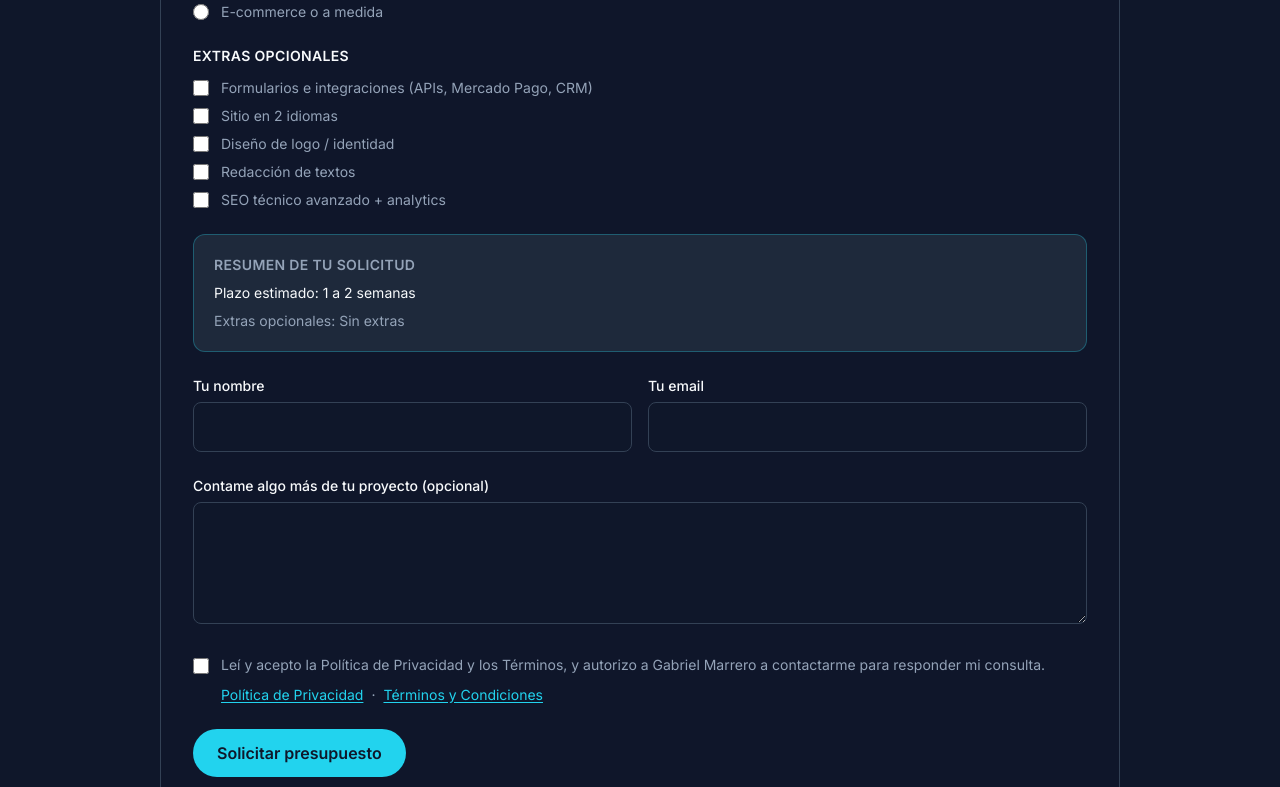
Estimator › blocks the submit when the consent is missing
(page scrolled)
In the field labelled "Tu nombre": coordinates (412, 427) [193, 402, 632, 452], type "Ana Pérez"
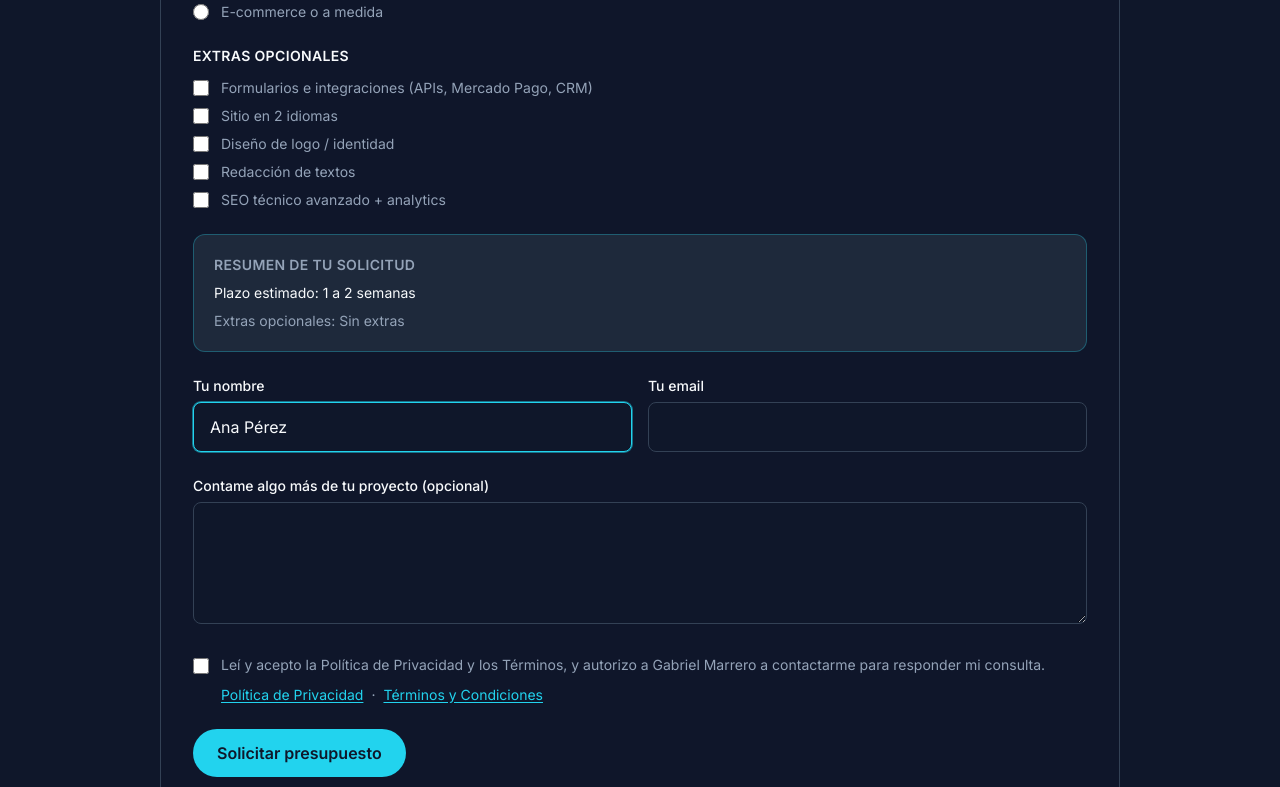
In the field labelled "Tu email": coordinates (868, 427) [648, 402, 1087, 452], type "ana@example.com"
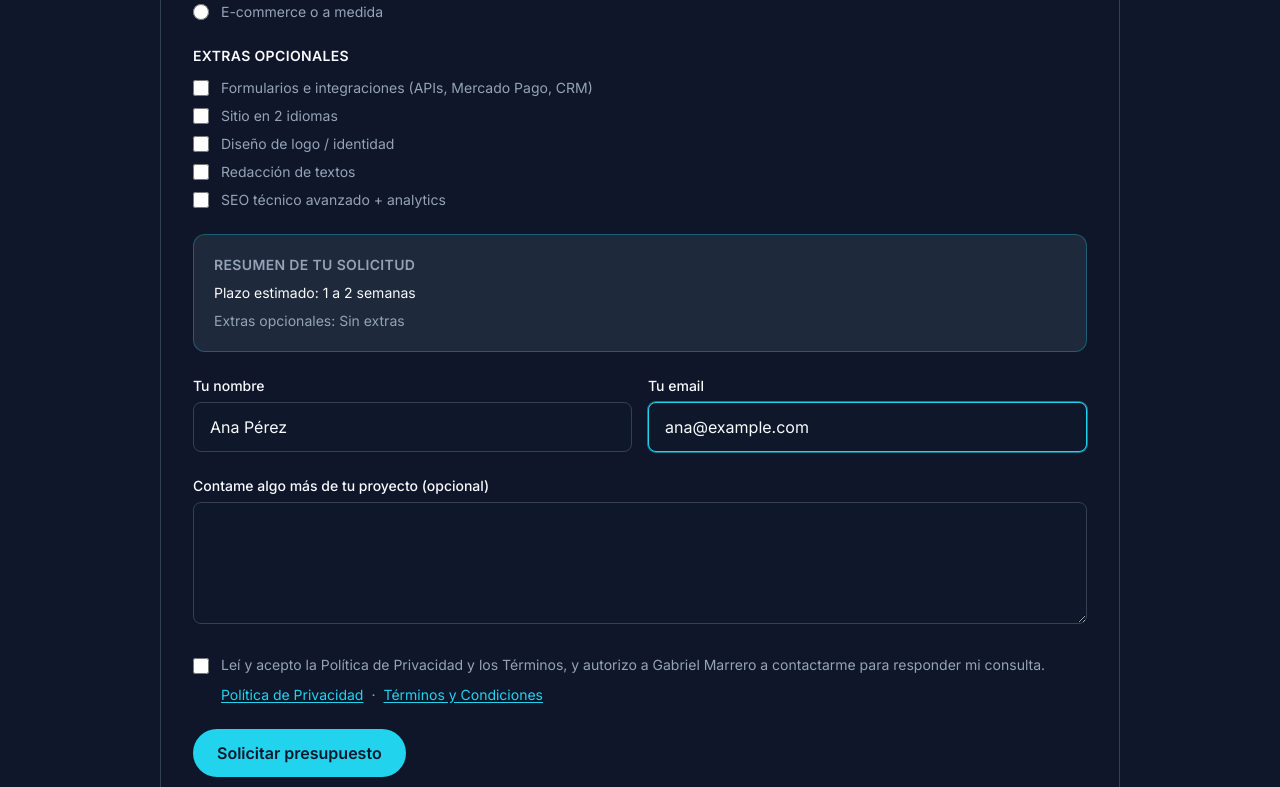
Click the button "Solicitar presupuesto": coordinates (299, 753) [193, 729, 406, 777]
(page scrolled)
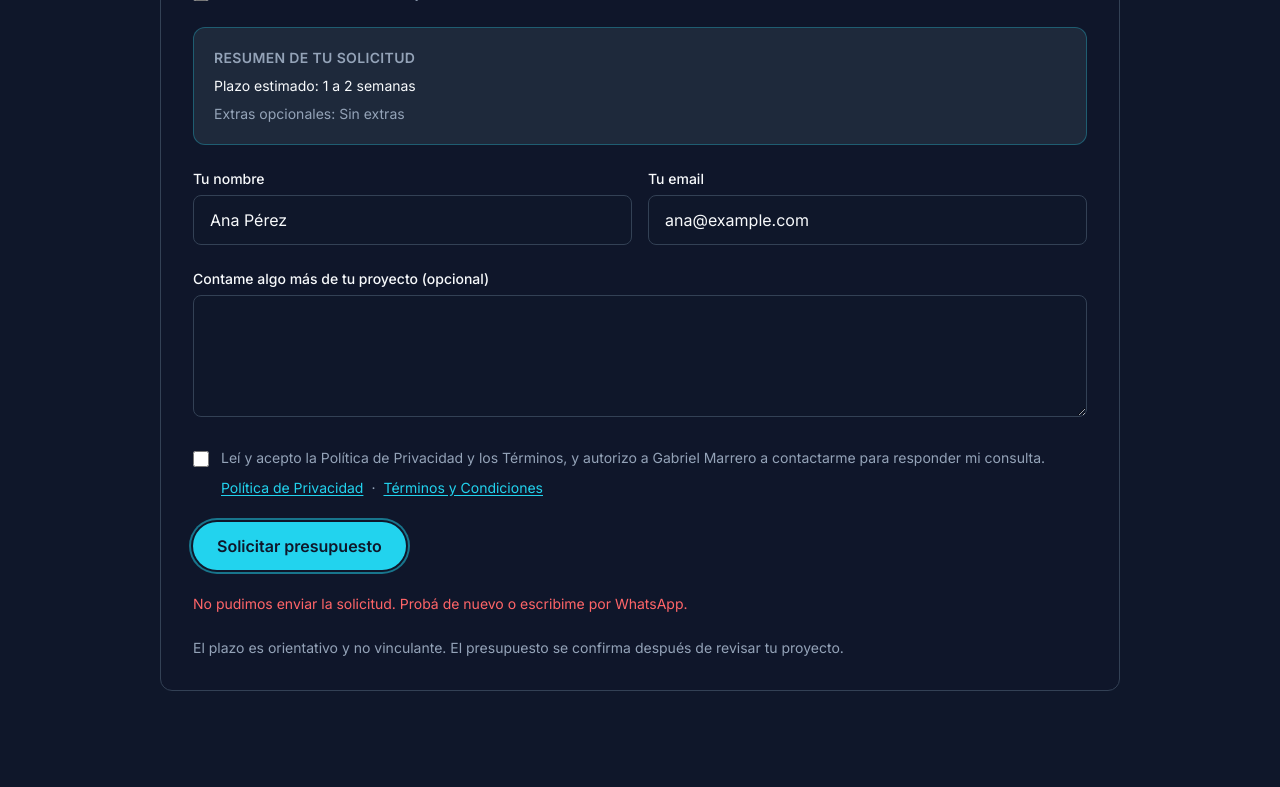
expect the message reads "No pudimos enviar la solicitud. Probá de nuevo o escribime por WhatsApp.": met, box [193, 595, 688, 612]
